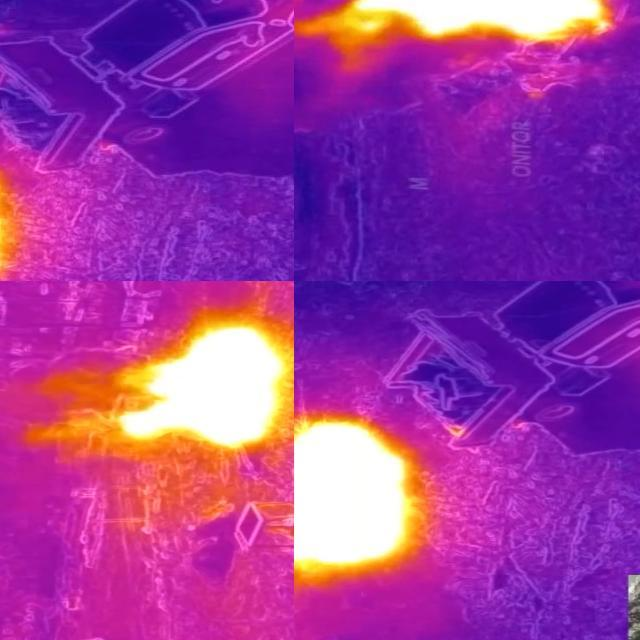fire: (295, 407, 434, 582), (295, 1, 618, 71), (117, 327, 291, 449)
